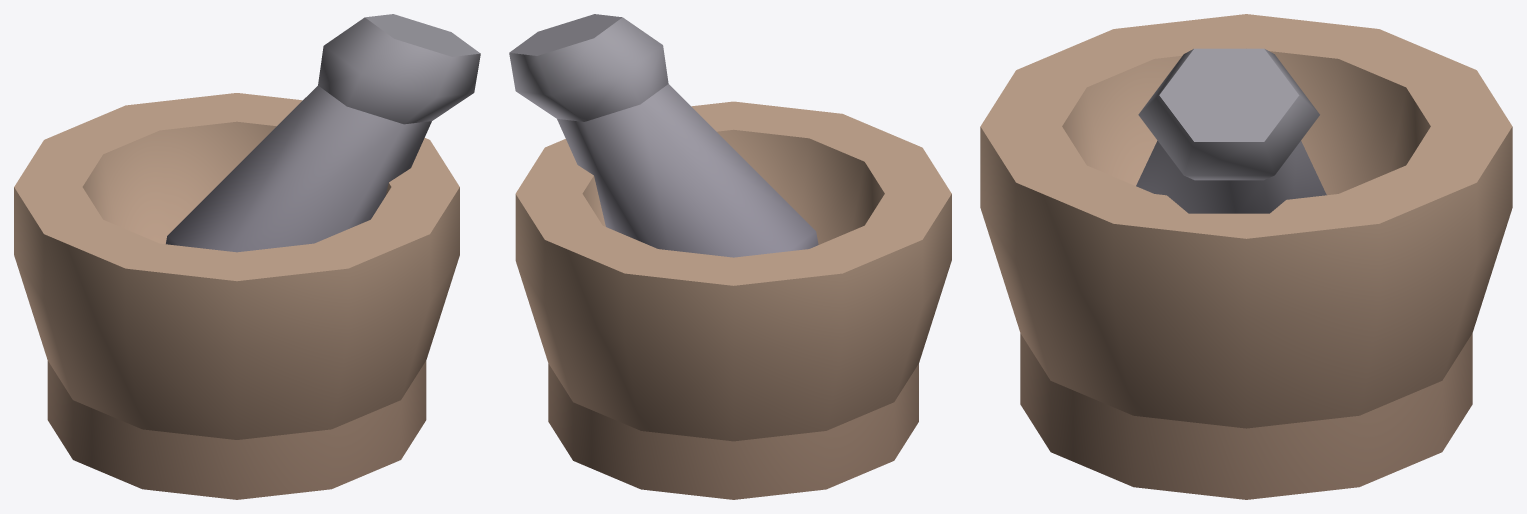
The model's file is mortar-and-pestle.glb.
3 views of the same model, side by side, from view 1: azimuth 30°, elevation 25°; view 2: azimuth 150°, elevation 25°; view 3: azimuth 270°, elevation 25° (orthographic). The views are drawn at different scales.
Visible parts, largest first — view 1: mortar-and-pestle; view 2: mortar-and-pestle; view 3: mortar-and-pestle.
Boxes of the visible parts, box(x1,y1,x2,y2) form: mortar-and-pestle: box(14, 14, 480, 499); mortar-and-pestle: box(509, 14, 951, 499); mortar-and-pestle: box(980, 14, 1512, 499).
Bounding box in the file's own units: 0.2902 × 0.2433 × 0.27.
